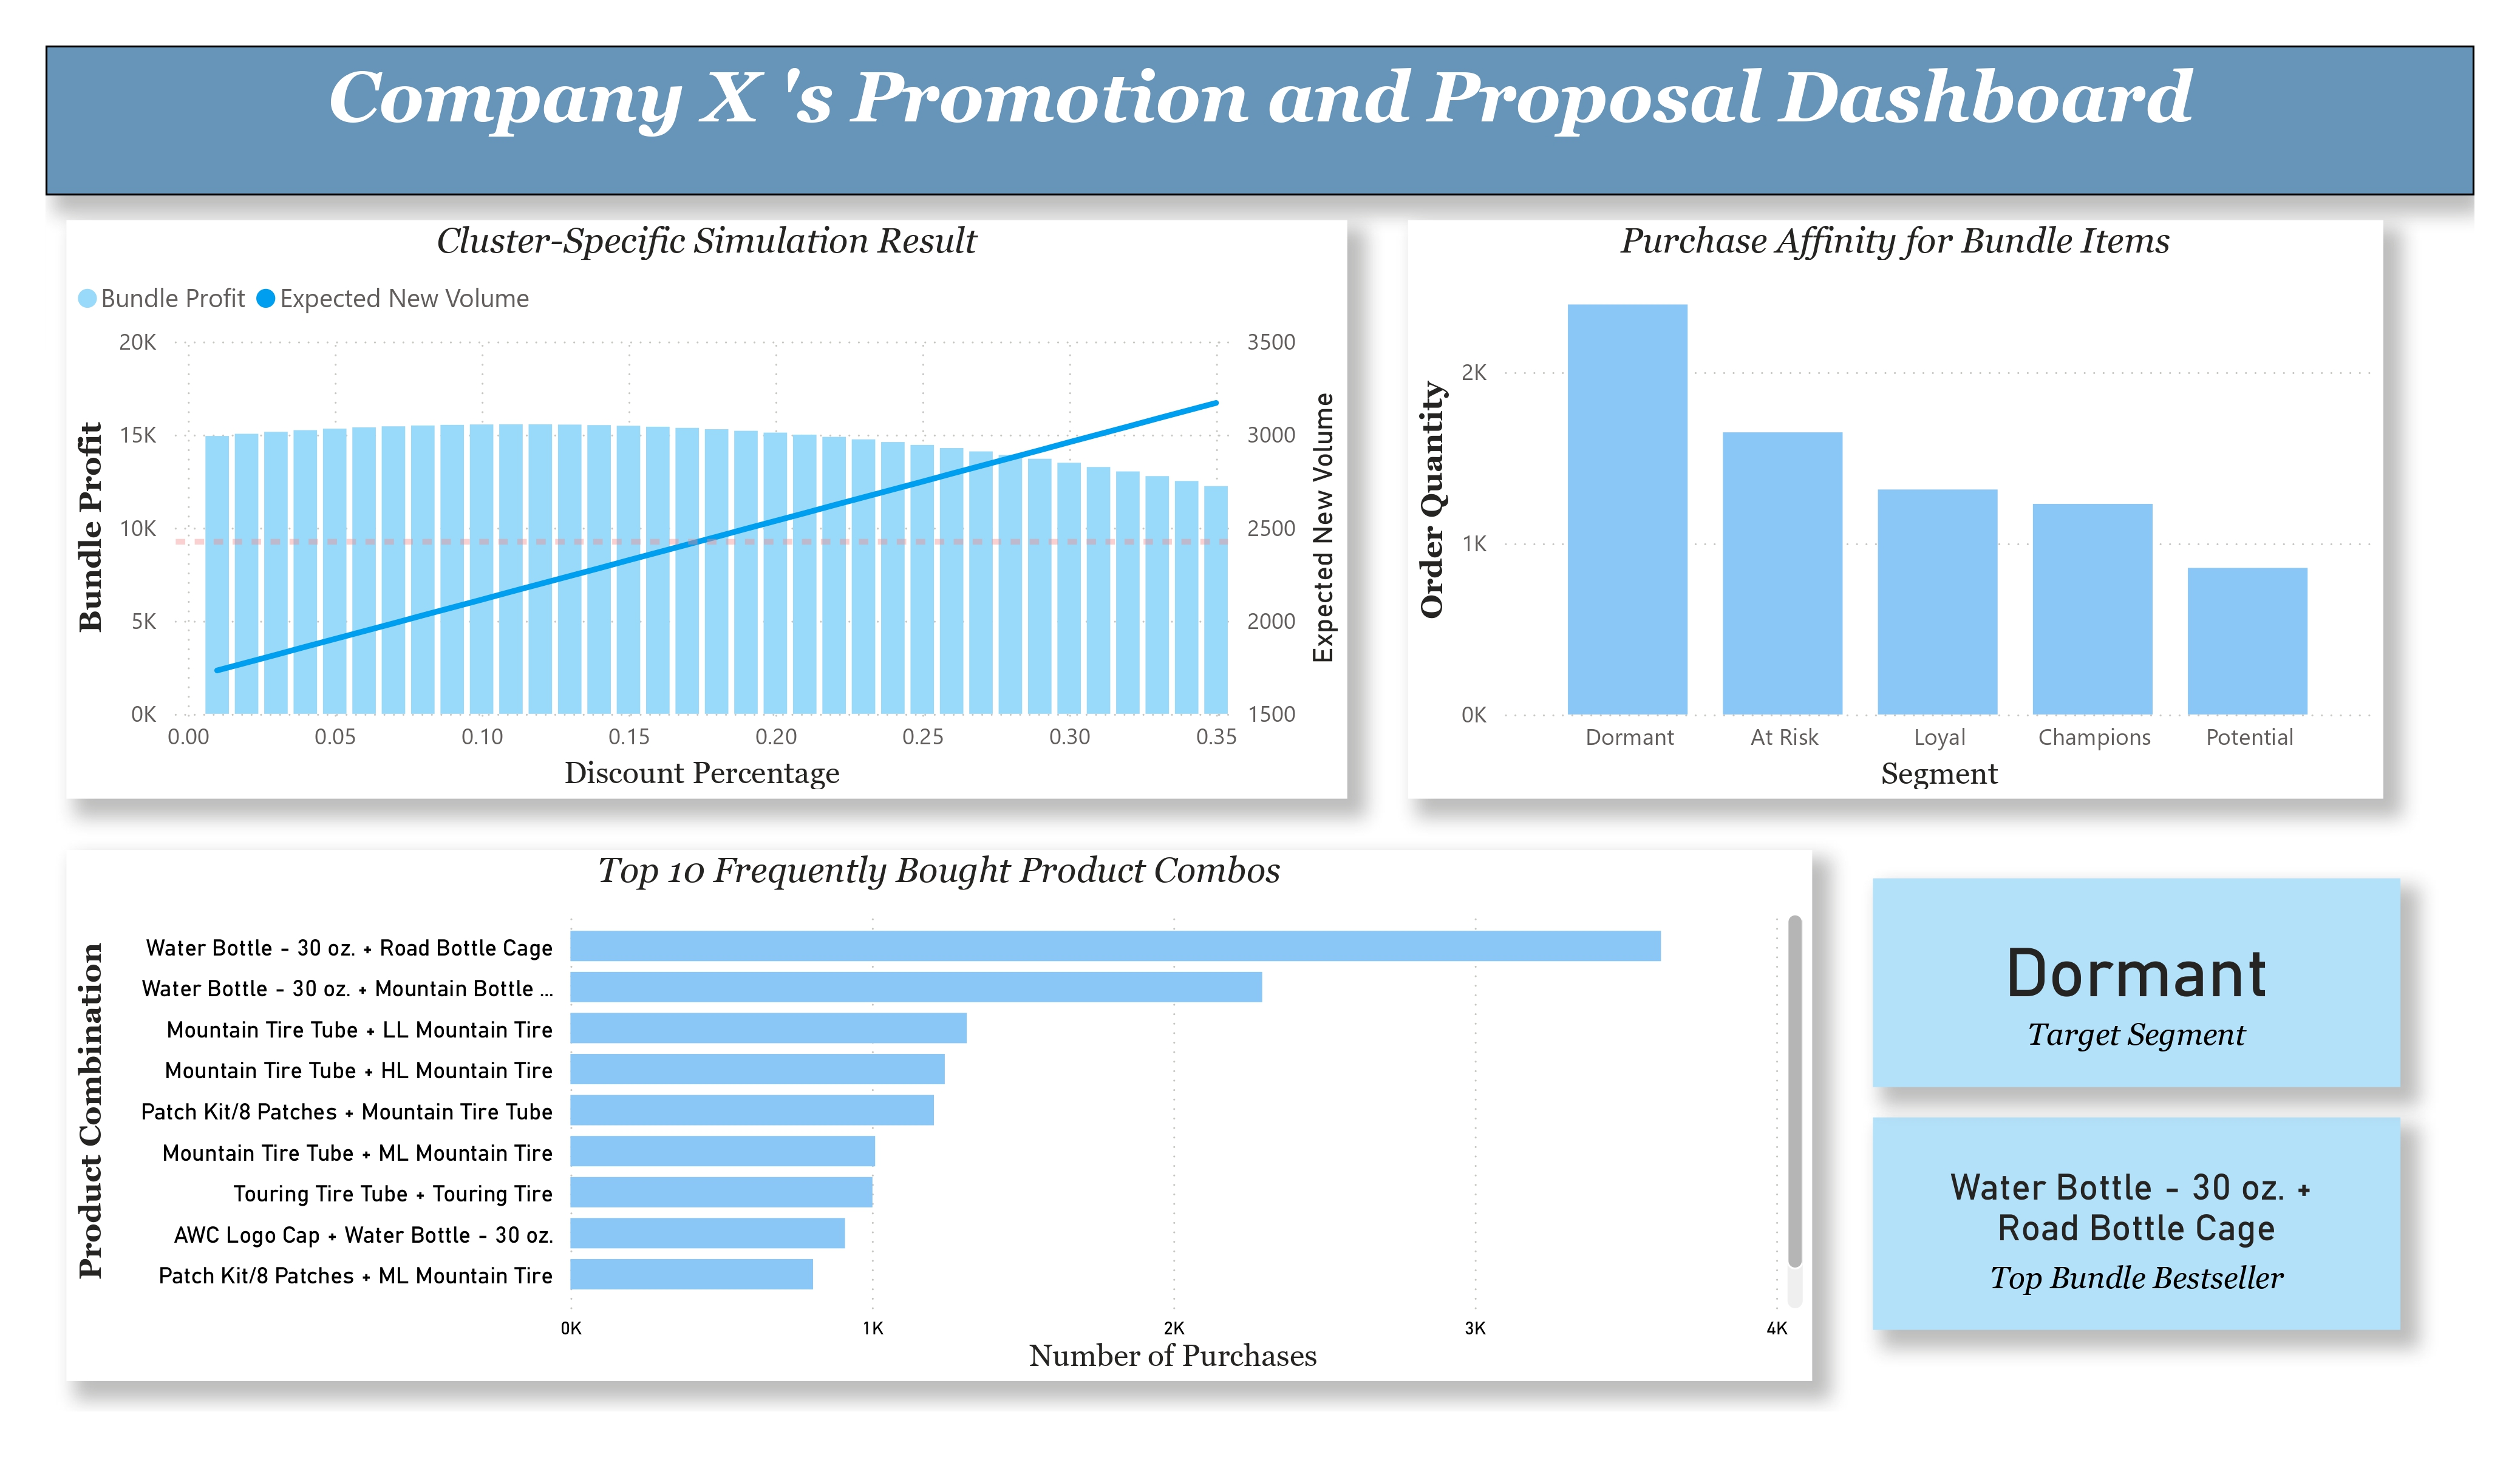

This screenshot's page, from the dashboard's own definition file:
{"tool":"powerbi","page":{"name":"Page 2","canvas":[1280,720],"ordinal":1},"visuals":[{"type":"shape","box":[0,0,1280.3,78.2],"z":0},{"type":"textbox","box":[0,0,1280,78.8],"z":1000},{"type":"barChart","title":"Top 10 Frequently Bought Product Combos","fields":{"Y":["Sum(Top_10_Combos.PurchaseCount)"],"Category":["Top_10_Combos.Combo"]},"box":[10.8,424,919.9,280.4],"z":2000},{"type":"card","fields":{"Values":["Min(Top_10_Combos.Combo)"]},"box":[963.3,564.9,277.7,112.4],"z":3000},{"type":"lineClusteredColumnComboChart","title":"Cluster-Specific Simulation Result","fields":{"Category":["Simulation_Result.Bundle_Discount"],"Y":["Sum(Simulation_Result.Total_Bundle_Profit)"],"Y2":["Sum(Simulation_Result.Expected_New_Volume)"]},"box":[10.8,92.1,674.7,304.8],"z":4000},{"type":"columnChart","title":"Purchase Affinity for Bundle Items","fields":{"Category":["Cluster_Affinity.Segment"],"Y":["Max(Cluster_Affinity.OrderQty)"]},"box":[718,92.1,513.5,304.8],"z":5000},{"type":"card","fields":{"Values":["Min(Cluster_Affinity.Segment)"]},"box":[963.3,439,277.7,109.7],"z":6000}]}

Visuals, with their boxes in screenshot pixels (x1, y1, x2, y2):
shape: bbox=(46, 46, 2474, 194)
textbox: bbox=(46, 46, 2474, 195)
"Top 10 Frequently Bought Product Combos" barChart: bbox=(66, 850, 1811, 1382)
card - Min(Top_10_Combos.Combo): bbox=(1873, 1117, 2400, 1331)
"Cluster-Specific Simulation Result" lineClusteredColumnComboChart: bbox=(66, 220, 1346, 798)
"Purchase Affinity for Bundle Items" columnChart: bbox=(1408, 220, 2382, 798)
card - Min(Cluster_Affinity.Segment): bbox=(1873, 878, 2400, 1087)
